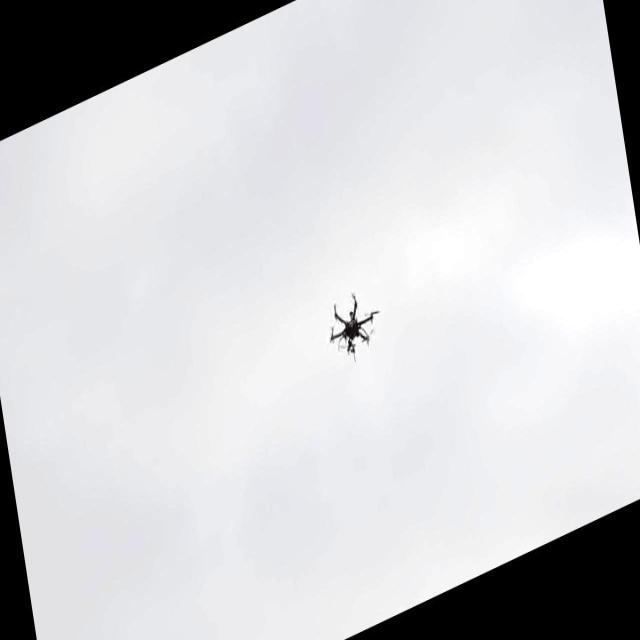drone: (323, 281, 383, 366)
